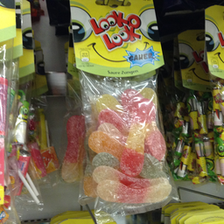candy: (73, 2, 172, 208)
